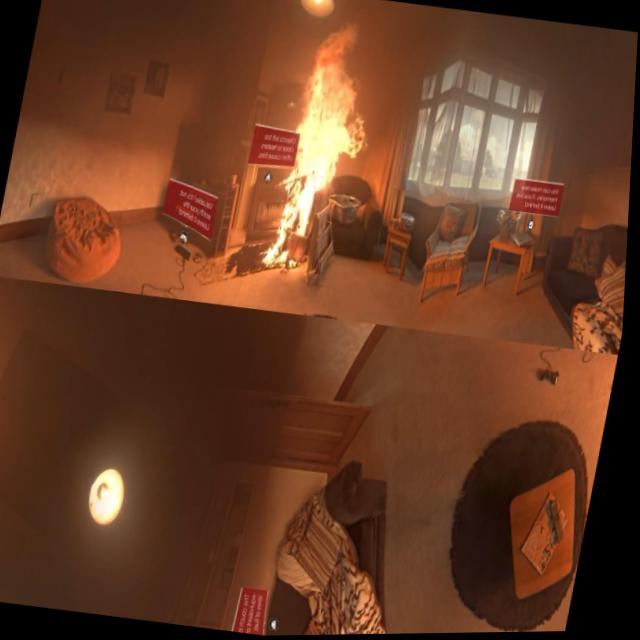fire: (261, 15, 390, 279)
